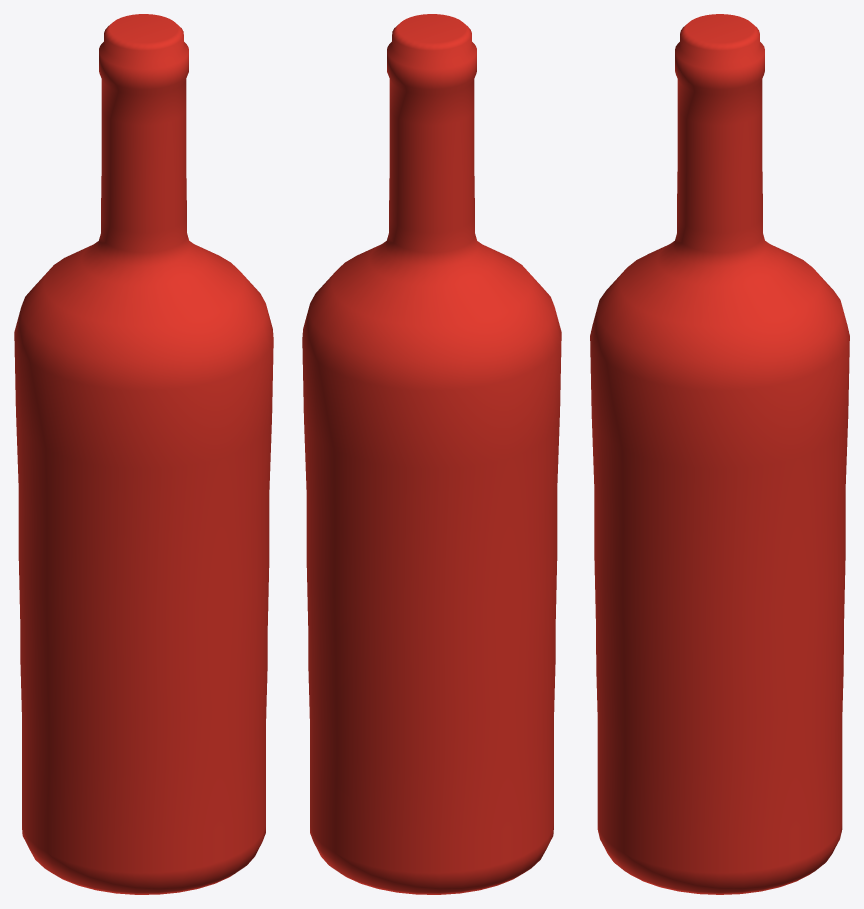
The model's file is bottleAtlas.fbx.
3 renders of one model, left to right at view 1: azimuth 30°, elevation 25°; view 2: azimuth 150°, elevation 25°; view 3: azimuth 270°, elevation 25°, orthographic.
Parts seen in each view (by area): view 1: Cylinder; view 2: Cylinder; view 3: Cylinder.
Part boxes in pixels (left/top/right/bottom): Cylinder: left=14, top=14, right=273, bottom=894; Cylinder: left=302, top=14, right=561, bottom=894; Cylinder: left=590, top=14, right=849, bottom=894.
Size of the model in its own units: 49.52 by 174 by 49.52.
